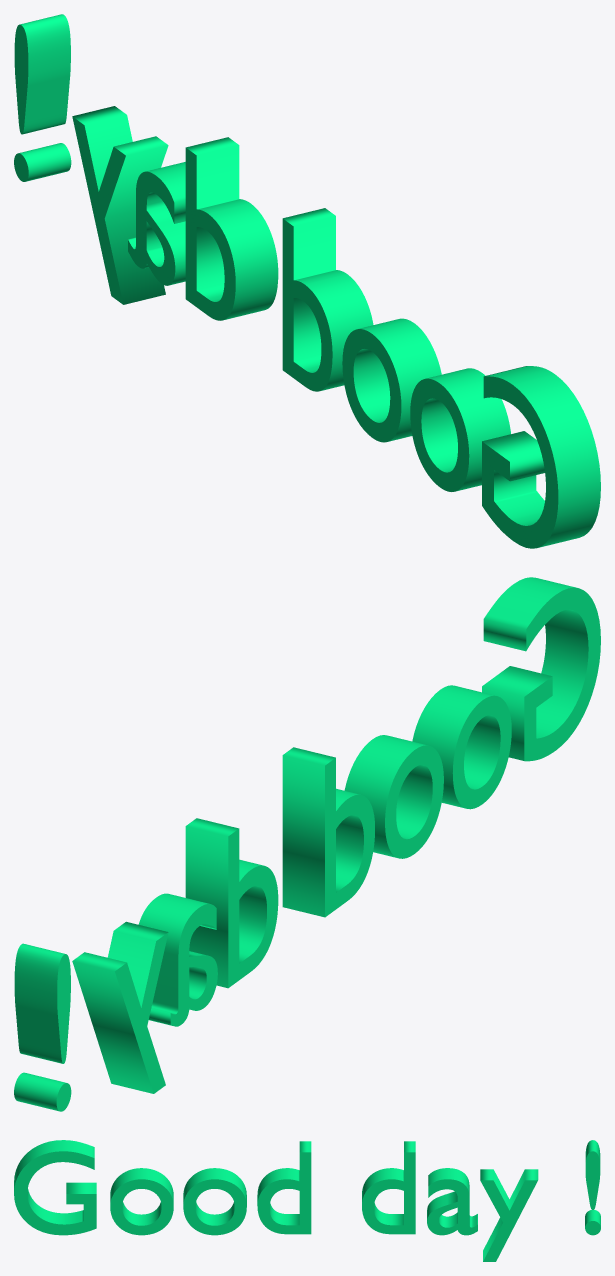
File: goodday.glb
The picture shows the model from 3 angles, top to bottom: view 1: azimuth 30°, elevation 25°; view 2: azimuth 150°, elevation 25°; view 3: azimuth 270°, elevation 25°; orthographic projection. The views are drawn at different scales.
Parts seen in each view (by area): view 1: 文本; view 2: 文本; view 3: 文本.
Boxes of the visible parts, x1,y1,x2,y2 form: 文本: [14, 14, 600, 548]; 文本: [14, 577, 600, 1111]; 文本: [14, 1140, 600, 1261].
Size of the model in its own units: 0.2 by 0.921 by 4.43.
